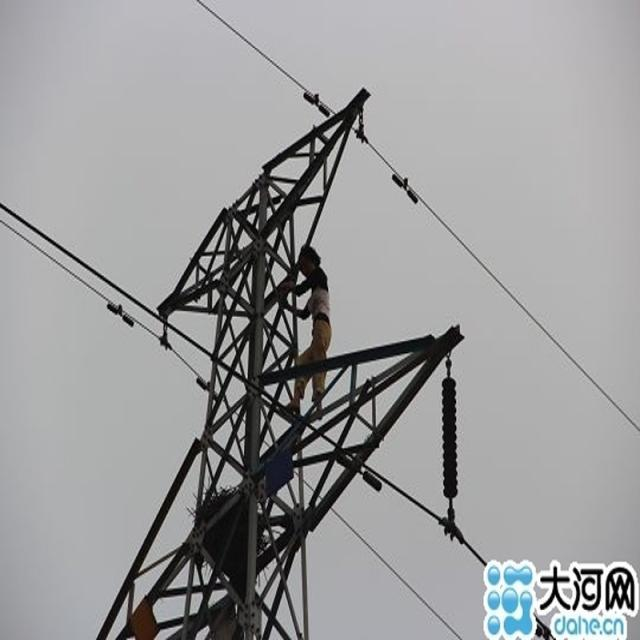non-critical vegetation: (42, 60, 474, 626)
